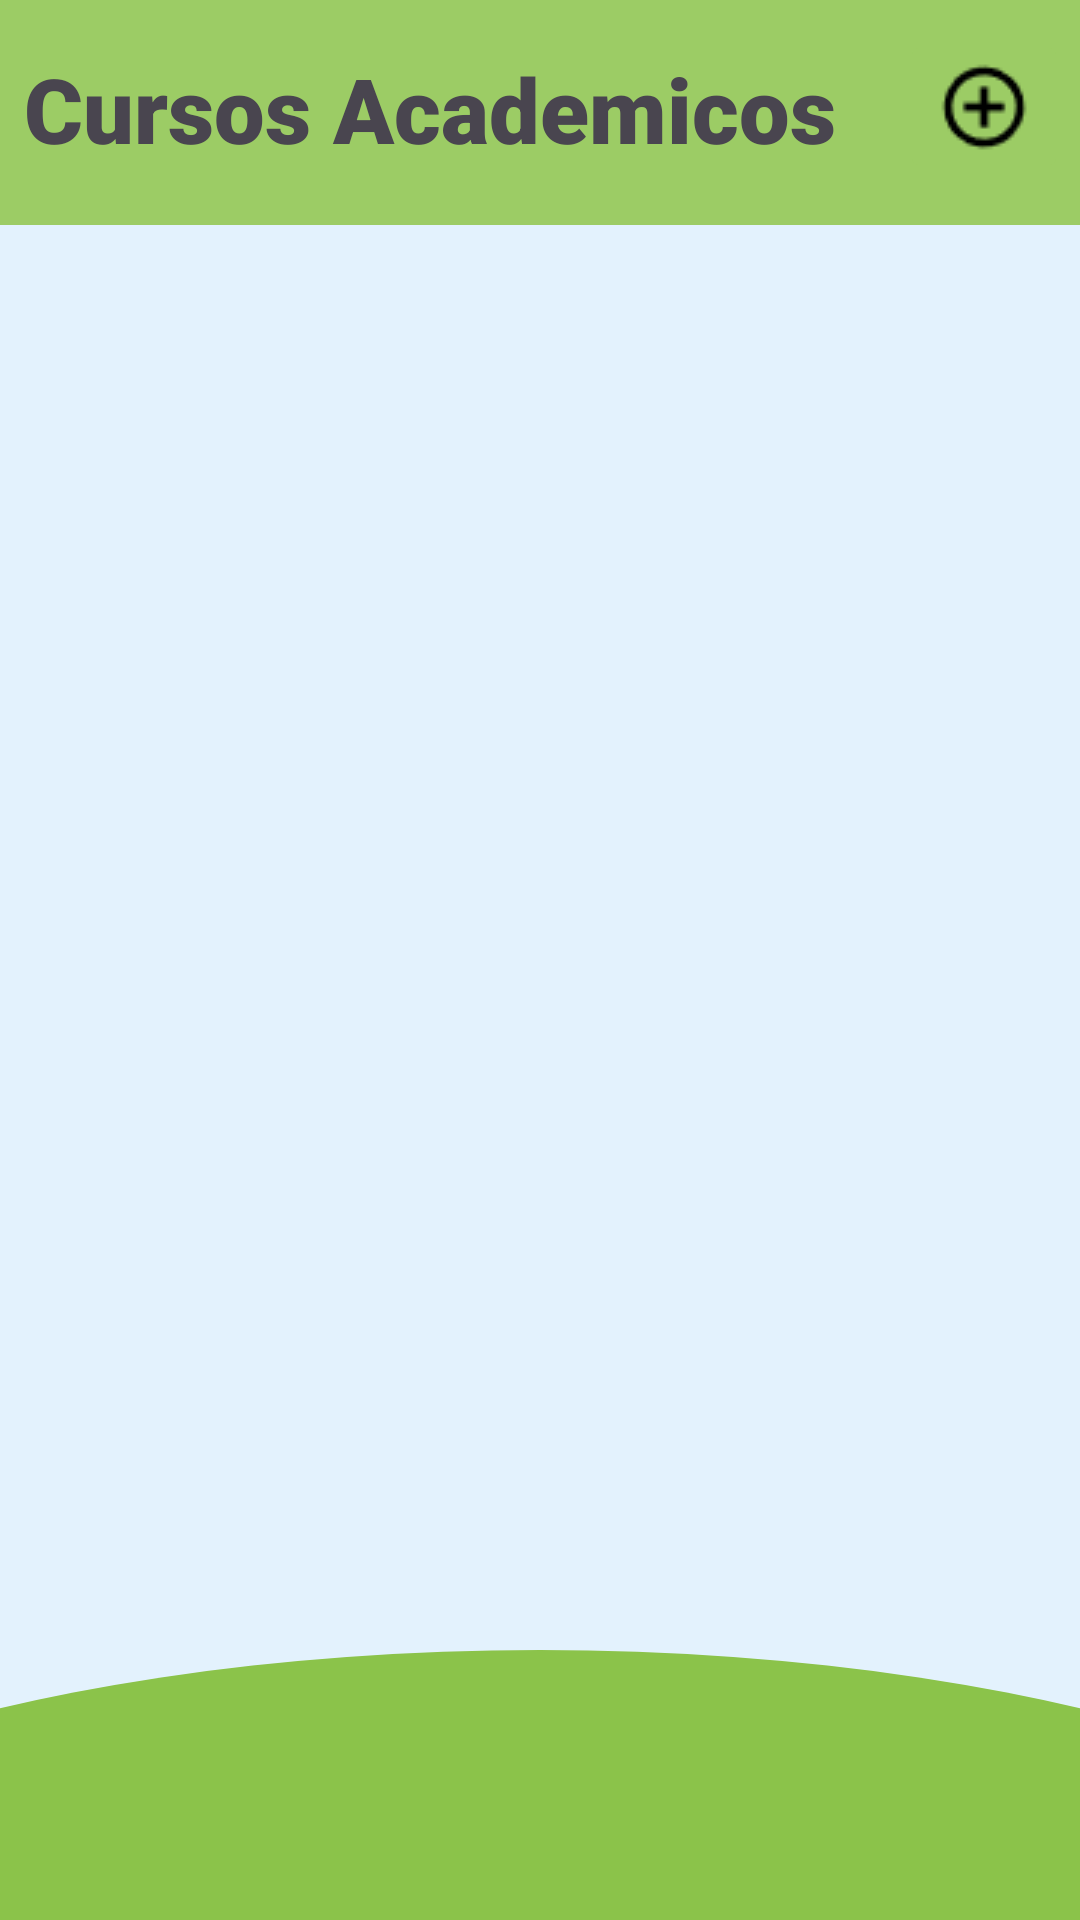

Icons on this 1080×1920 Android screen, each with the point to tap as (x,y):
add: (984,107)
